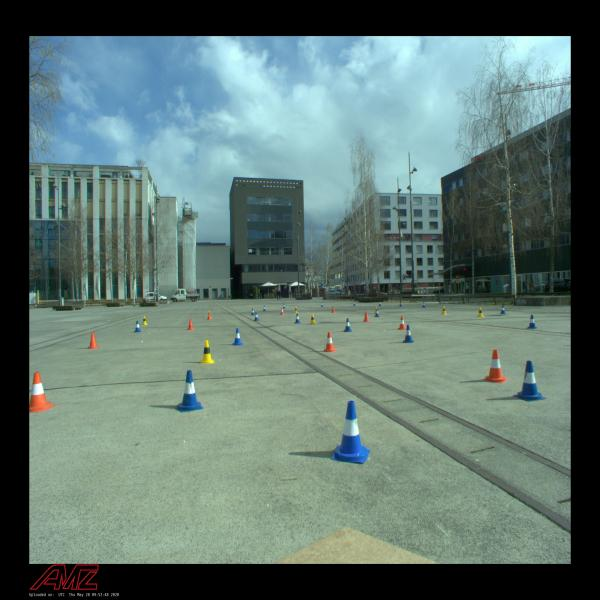blue_cone: (331, 400, 370, 464), (513, 360, 546, 402), (176, 370, 204, 412), (402, 325, 414, 343), (232, 328, 243, 346), (527, 314, 537, 329), (344, 318, 352, 332), (134, 320, 142, 332), (294, 314, 301, 324), (500, 305, 506, 314), (374, 309, 380, 317), (254, 312, 259, 321), (251, 309, 255, 315), (262, 306, 266, 312), (422, 302, 426, 307), (353, 301, 356, 306), (283, 304, 286, 308), (321, 302, 323, 307), (379, 301, 381, 306), (400, 302, 402, 306)
orange_cone: (29, 372, 56, 413), (483, 349, 509, 383), (323, 332, 337, 352), (87, 332, 100, 348), (398, 316, 407, 330), (186, 319, 194, 330), (363, 311, 370, 322), (207, 312, 212, 320), (280, 307, 284, 315), (332, 306, 335, 313)
yellow_cone: (199, 340, 214, 364), (309, 314, 316, 324), (477, 307, 484, 317), (441, 305, 447, 315), (142, 316, 148, 325), (374, 306, 379, 314), (207, 311, 212, 318), (294, 306, 298, 313)
